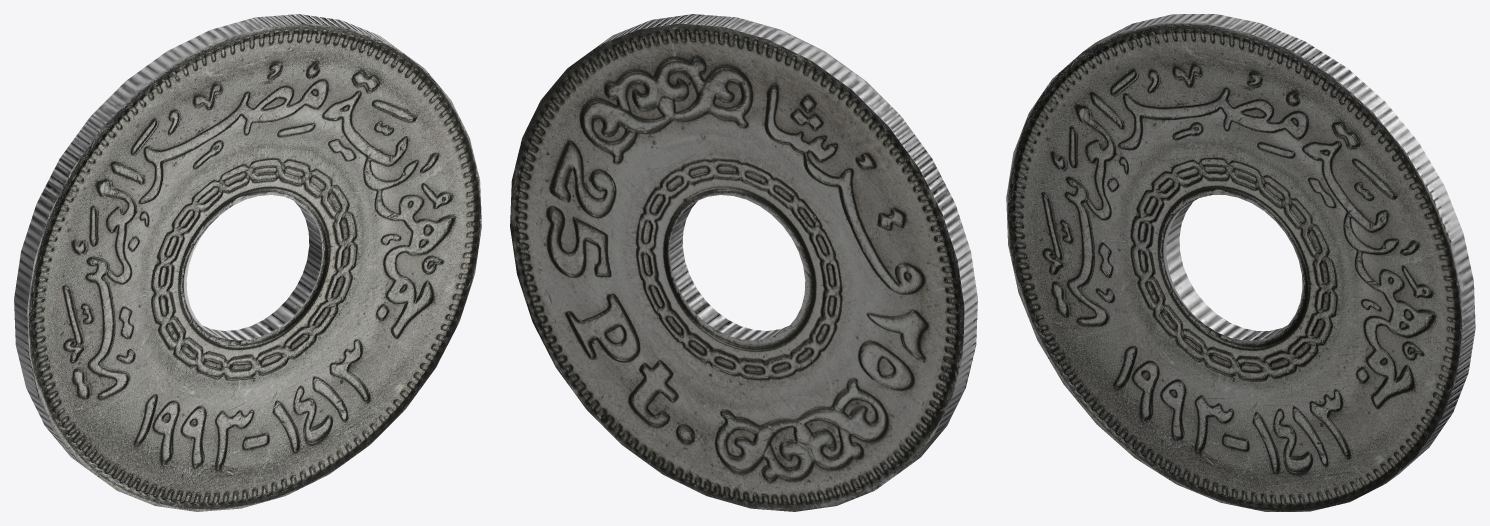
3 renders of one model, left to right at view 1: azimuth 30°, elevation 25°; view 2: azimuth 150°, elevation 25°; view 3: azimuth 330°, elevation 25°, orthographic.
Visible parts, largest first — view 1: Cylinder.001; view 2: Cylinder.001; view 3: Cylinder.001.
Part boxes in pixels (x1,y1,x2,y2): Cylinder.001: (14,14,481,511); Cylinder.001: (510,14,977,511); Cylinder.001: (1006,14,1475,511).
Bounding box in the file's own units: 2 × 1.99 × 0.1.
3 materials, 3 textured.
